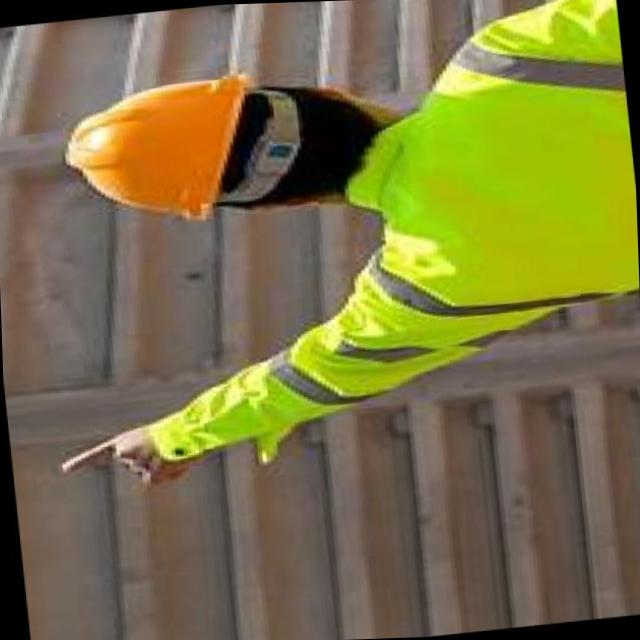not-gloved: (31, 414, 193, 492)
